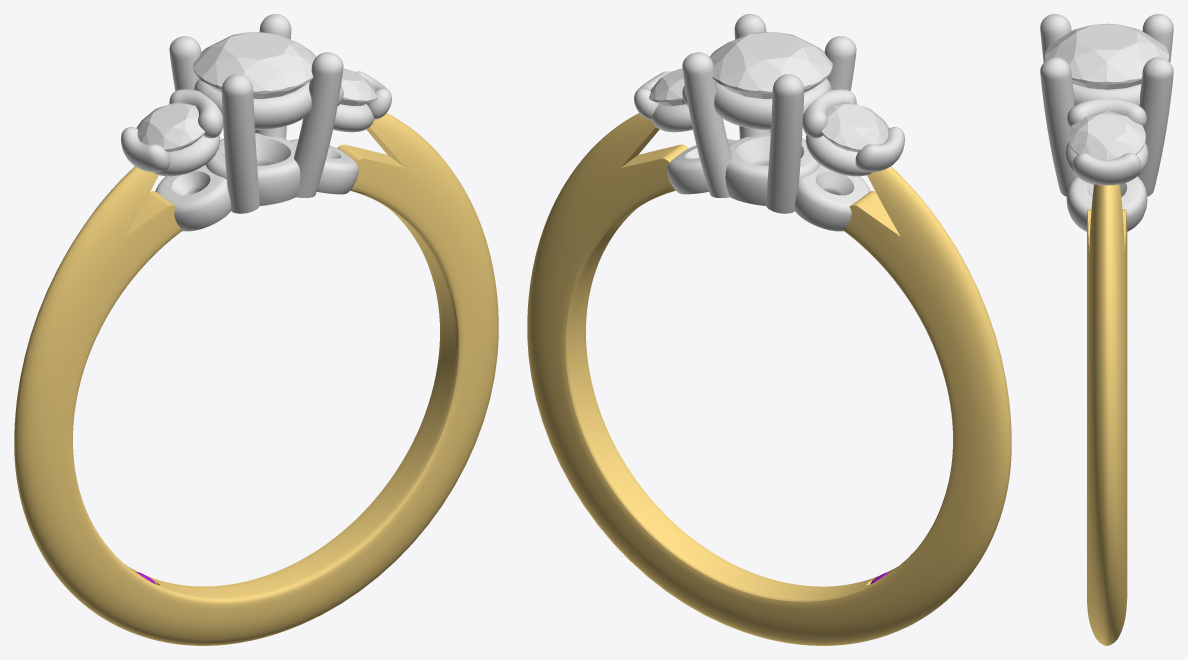
File: JaxonV2_blender.glb
3 views of the same model, side by side, from view 1: azimuth 30°, elevation 25°; view 2: azimuth 150°, elevation 25°; view 3: azimuth 270°, elevation 25° (orthographic).
Parts seen in each view (by area): view 1: Jaxon YG HS for 3d model, Jaxon PT for 3d model, Jaxon dia for 3d model, Jaxon dia sides for 3d model.001, Jaxon dia sides for 3d model; view 2: Jaxon YG HS for 3d model, Jaxon PT for 3d model, Jaxon dia for 3d model, Jaxon dia sides for 3d model.001, Jaxon dia sides for 3d model; view 3: Jaxon YG HS for 3d model, Jaxon PT for 3d model, Jaxon dia for 3d model, Jaxon dia sides for 3d model.
Part boxes in pixels (x1=…): Jaxon YG HS for 3d model: x1=14, y1=113, x2=498, y2=645; Jaxon PT for 3d model: x1=121, y1=14, x2=391, y2=231; Jaxon dia for 3d model: x1=193, y1=31, x2=316, y2=98; Jaxon dia sides for 3d model.001: x1=136, y1=102, x2=205, y2=152; Jaxon dia sides for 3d model: x1=340, y1=68, x2=376, y2=105; Jaxon YG HS for 3d model: x1=527, y1=113, x2=1011, y2=645; Jaxon PT for 3d model: x1=634, y1=14, x2=904, y2=231; Jaxon dia for 3d model: x1=709, y1=31, x2=832, y2=98; Jaxon dia sides for 3d model.001: x1=820, y1=102, x2=889, y2=152; Jaxon dia sides for 3d model: x1=649, y1=68, x2=685, y2=105; Jaxon YG HS for 3d model: x1=1087, y1=184, x2=1127, y2=645; Jaxon PT for 3d model: x1=1040, y1=14, x2=1173, y2=231; Jaxon dia for 3d model: x1=1045, y1=23, x2=1168, y2=89; Jaxon dia sides for 3d model: x1=1068, y1=111, x2=1145, y2=159.
Size of the model in its own units: 17.64 by 20.71 by 4.3.
